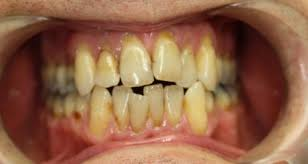decay: (72, 97, 89, 128)
normal: (155, 33, 181, 81), (165, 86, 182, 126), (181, 47, 197, 87), (216, 57, 230, 84), (55, 64, 66, 93), (205, 93, 214, 112)
yellow: (119, 33, 154, 88), (183, 83, 205, 134), (197, 36, 215, 91), (73, 48, 94, 95), (111, 85, 132, 131), (144, 84, 165, 128), (91, 90, 111, 136), (95, 47, 117, 88), (128, 93, 148, 134)
